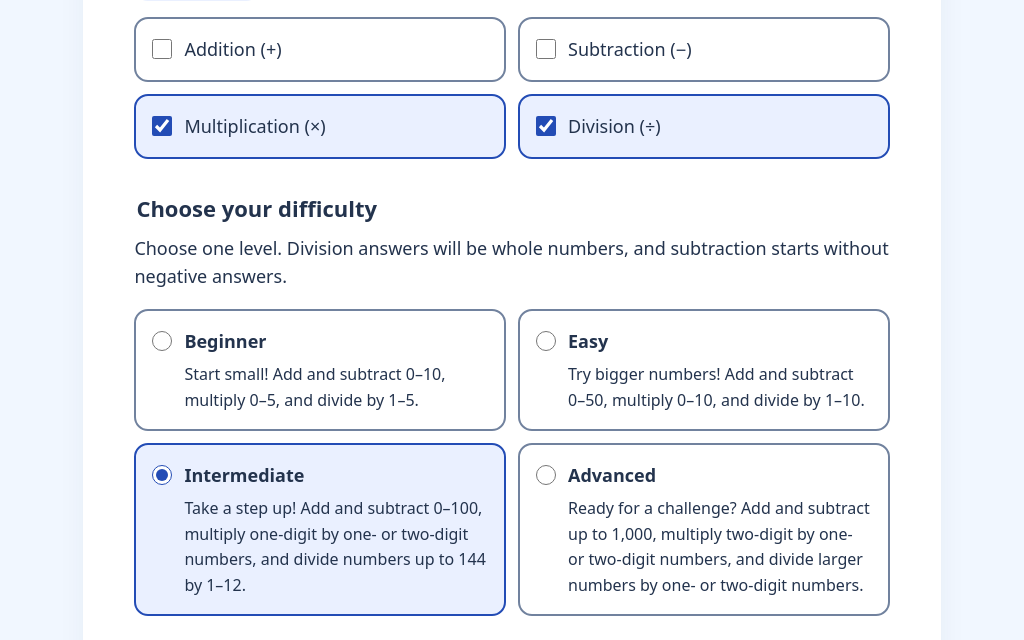
Test: persistent application settings › applies saved defaults to setup, permits an individual override, and leaves saved defaults unchanged
(page scrolled)
Expected: the checkbox labelled "Multiplication (×)" is checked, [152, 116, 172, 136]
Expected: the checkbox labelled "Division (÷)" is checked, [536, 116, 556, 136]
Click the radio button labelled "Easy".
click(546, 341)  # box [536, 331, 556, 351]
(page scrolled)
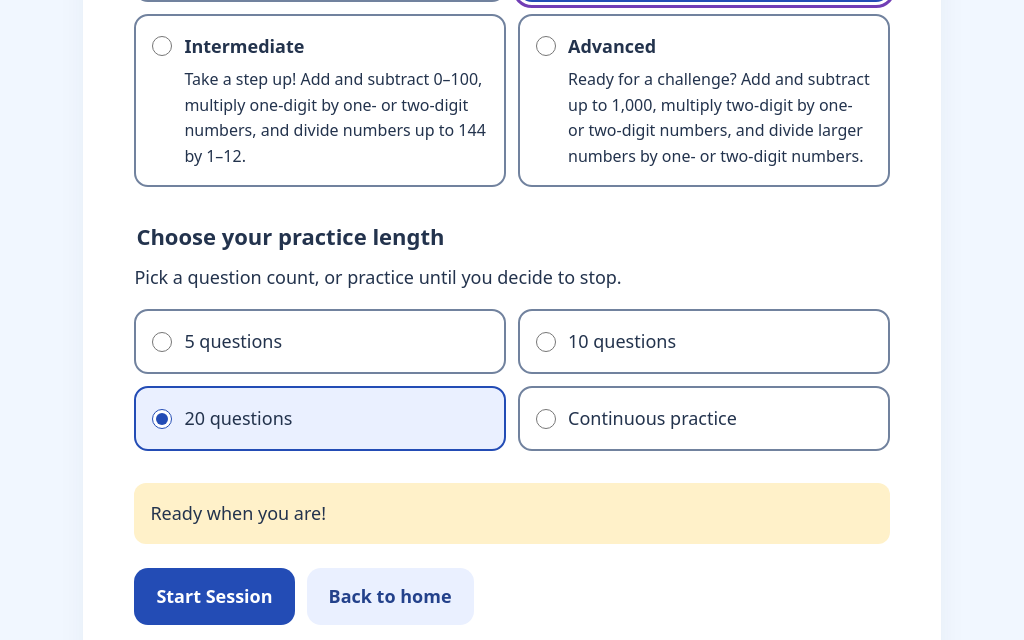
Click the radio button labelled "5 questions".
click(162, 342)  # box [152, 332, 172, 352]
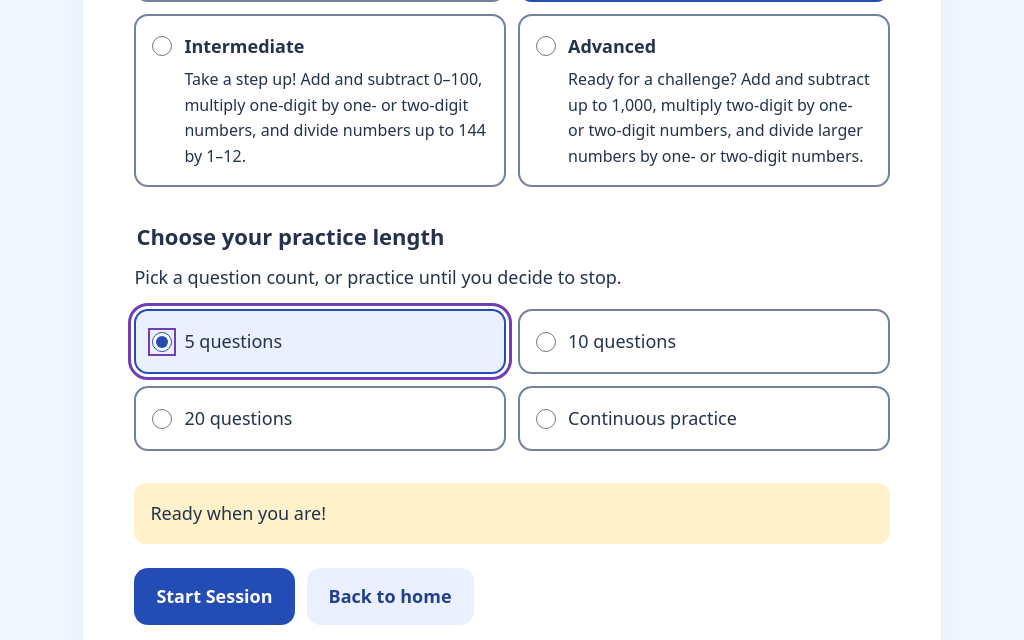
Click the button "Start Session".
click(214, 596)  # box [134, 568, 295, 625]
(page scrolled)
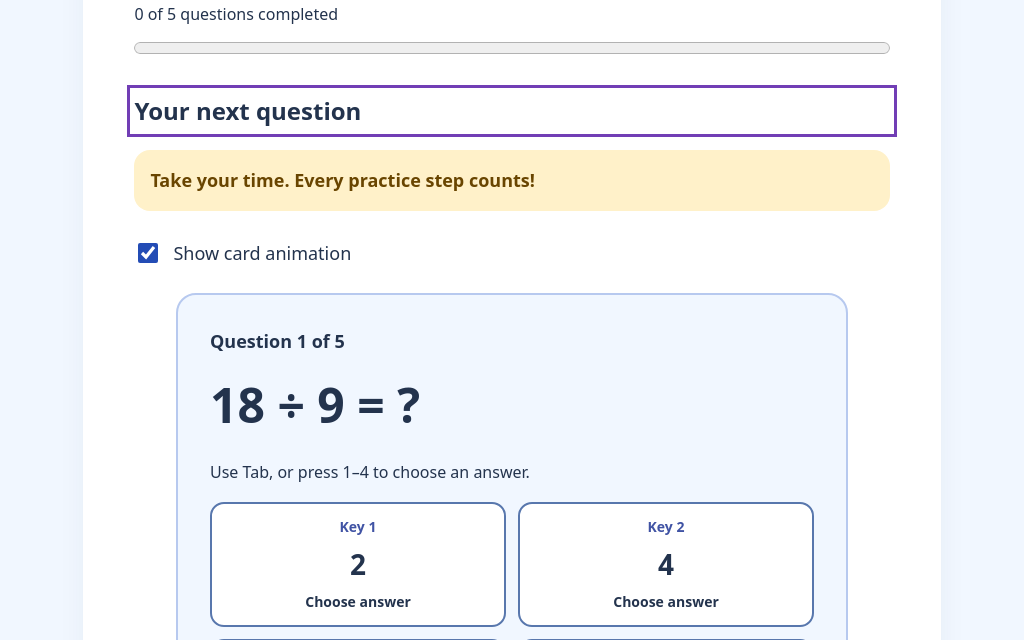
Expected: the text "Question 1 of 5" is shown, [210, 329, 345, 353]
